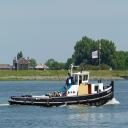tugboat: (7, 64, 117, 111)
